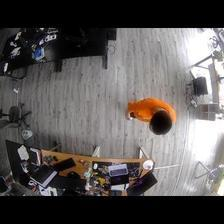normal: (126, 96, 176, 135)
